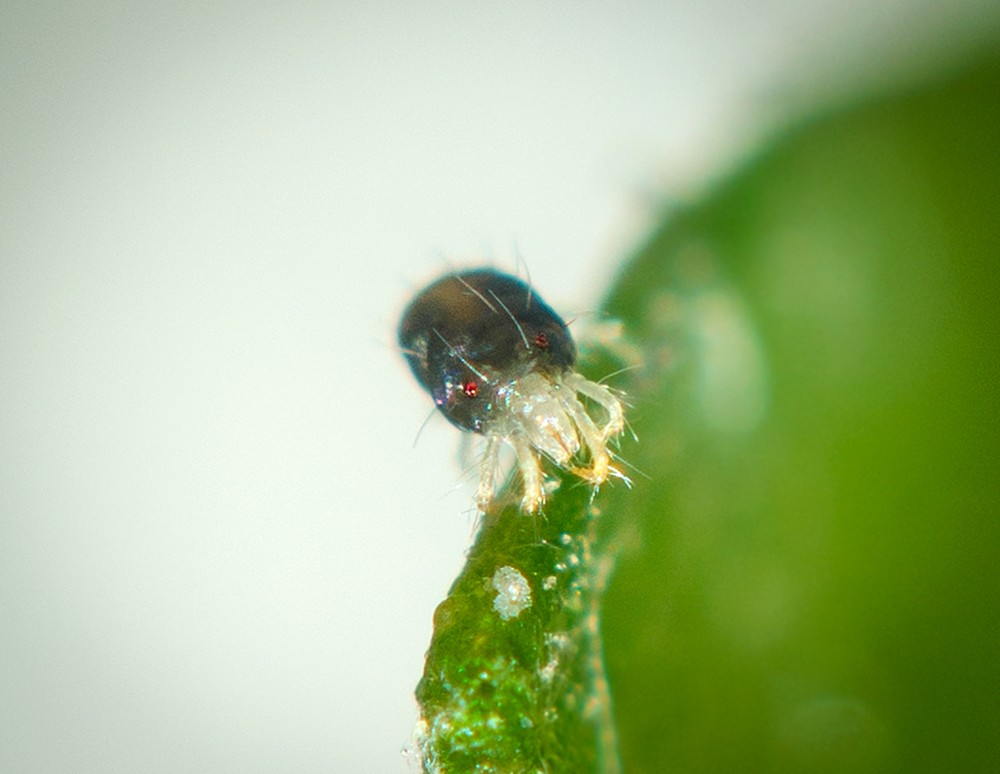Aracnido Rojo: (342, 232, 671, 529)
